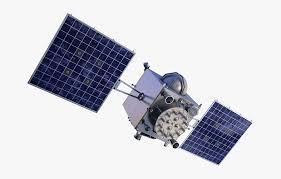body: (117, 66, 202, 147)
solar: (25, 10, 137, 116), (179, 97, 255, 168)
thruster: (161, 90, 175, 106), (169, 138, 182, 150), (132, 130, 144, 142), (141, 59, 151, 71)
